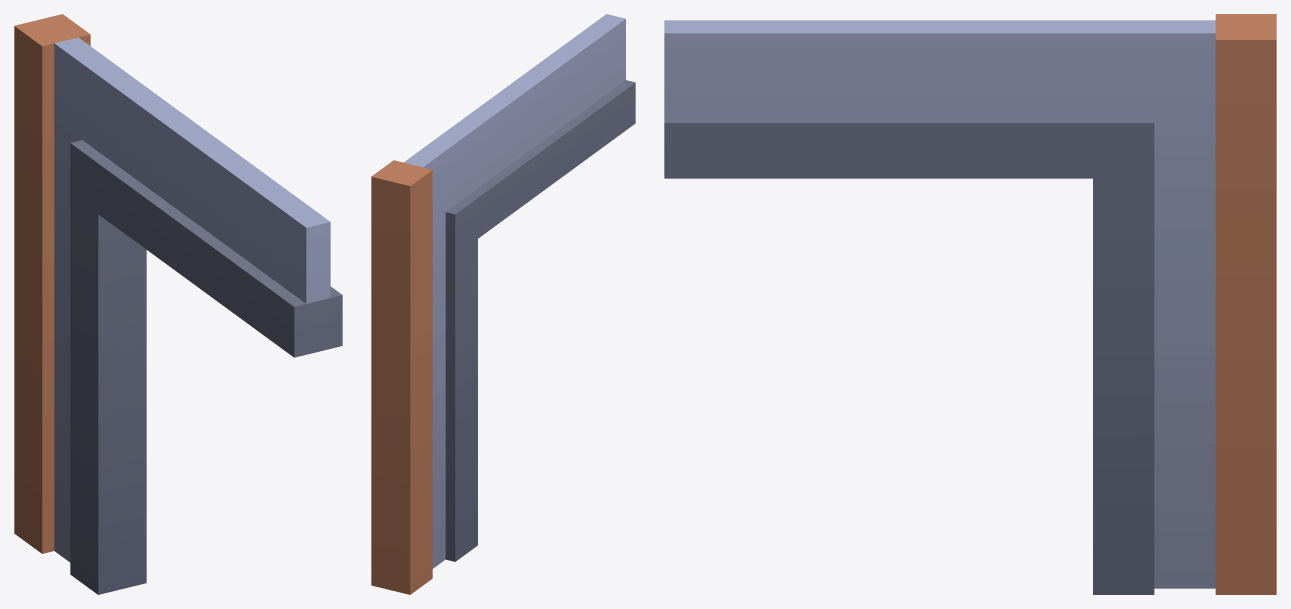
Rendered from wall-doorway-square-wide.glb.
3 views of the same model, side by side, from view 1: azimuth 30°, elevation 25°; view 2: azimuth 150°, elevation 25°; view 3: azimuth 270°, elevation 25° (orthographic). The views are drawn at different scales.
Visible parts, largest first — view 1: wall-doorway-square-wide; view 2: wall-doorway-square-wide; view 3: wall-doorway-square-wide.
Boxes of the visible parts, box(x1,y1,x2,y2) form: wall-doorway-square-wide: box(14, 14, 342, 594); wall-doorway-square-wide: box(371, 14, 635, 594); wall-doorway-square-wide: box(664, 14, 1276, 594).
Bounding box in the file's own units: 0.1 × 1 × 1.
Materials: 1 (1 with a texture image).
